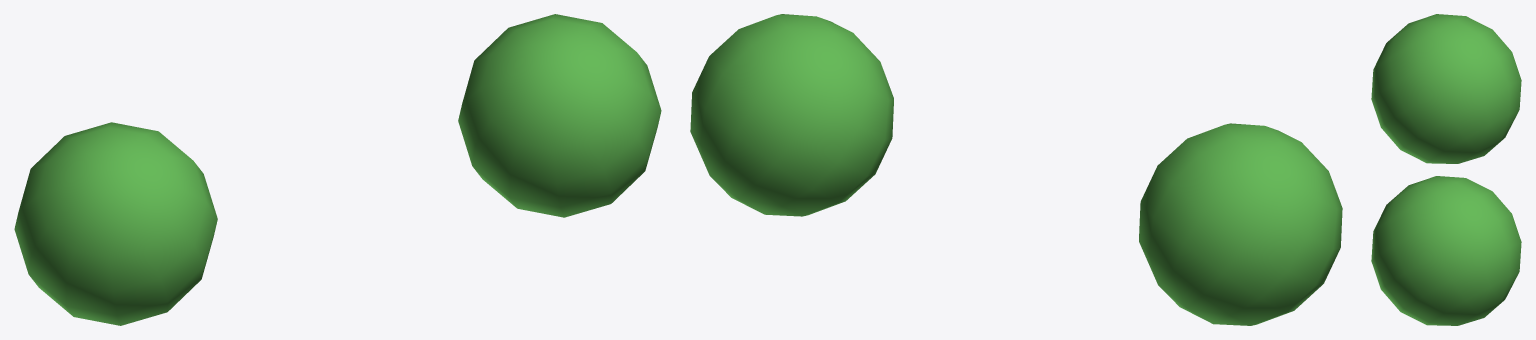
File: linfatico-apical-axillary-nodes-r.glb
The picture shows the model from 3 angles, left to right: view 1: azimuth 30°, elevation 25°; view 2: azimuth 150°, elevation 25°; view 3: azimuth 270°, elevation 25°; orthographic projection. The views are drawn at different scales.
Parts seen in each view (by area): view 1: Apical axillary nodes.r; view 2: Apical axillary nodes.r; view 3: Apical axillary nodes.r.
Part boxes in pixels (bbox=[...]): Apical axillary nodes.r: bbox=[14, 14, 661, 325]; Apical axillary nodes.r: bbox=[690, 14, 1342, 325]; Apical axillary nodes.r: bbox=[1371, 14, 1521, 325].
Size of the model in its own units: 0.00911 by 0.00258 by 0.00256.
